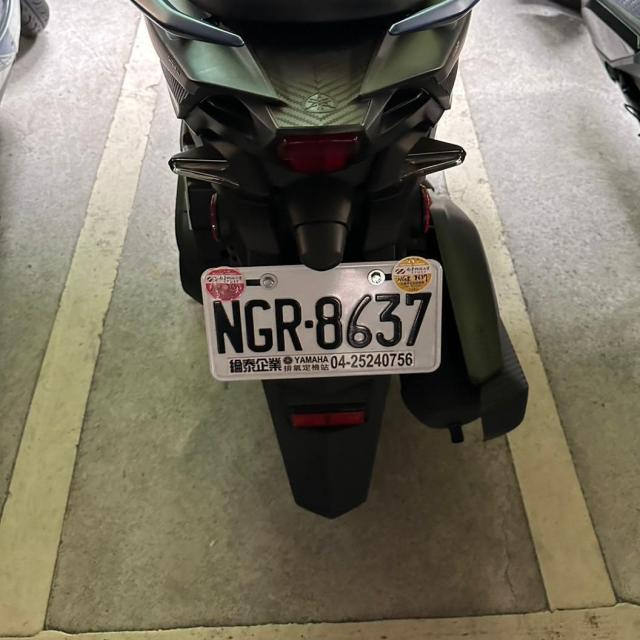W: (196, 251, 446, 387)
